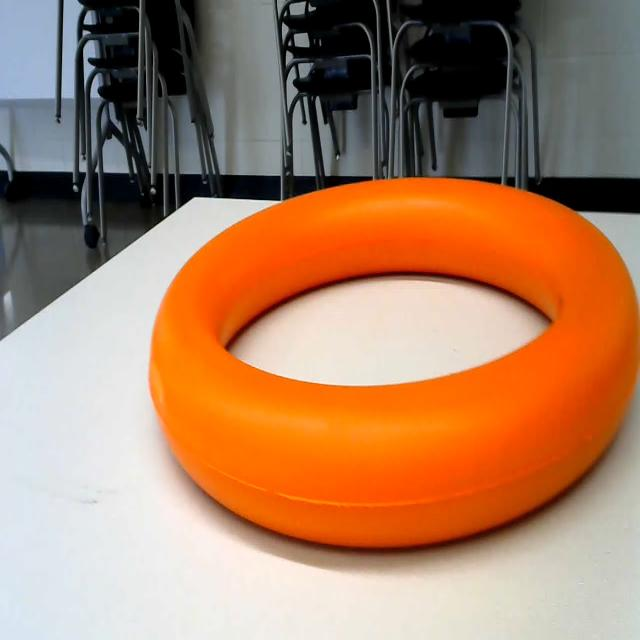note: (141, 133, 640, 580)
